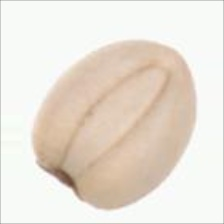L5: (58, 62, 173, 179), (33, 155, 90, 205), (154, 38, 198, 84)
L6: (22, 25, 202, 213)
